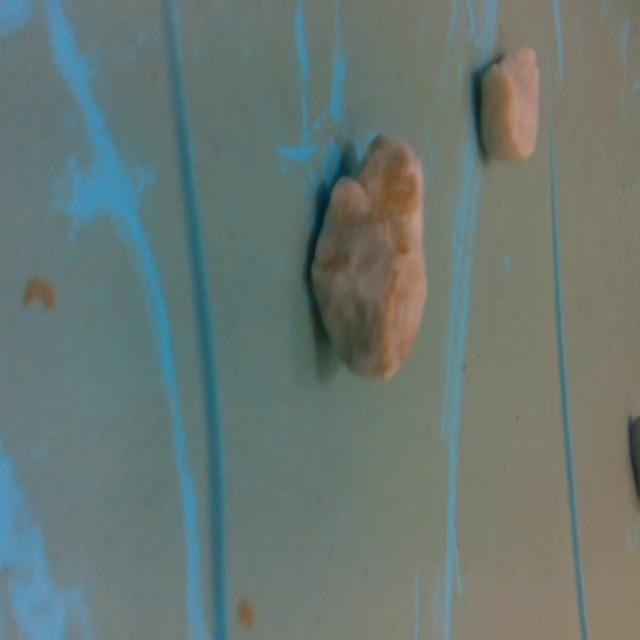rock: (305, 124, 433, 390), (473, 36, 546, 168)
